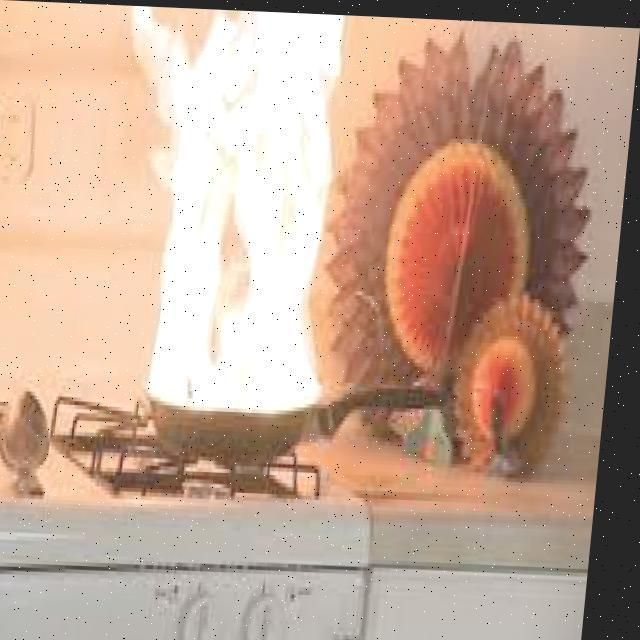Fire: (107, 17, 370, 410)
